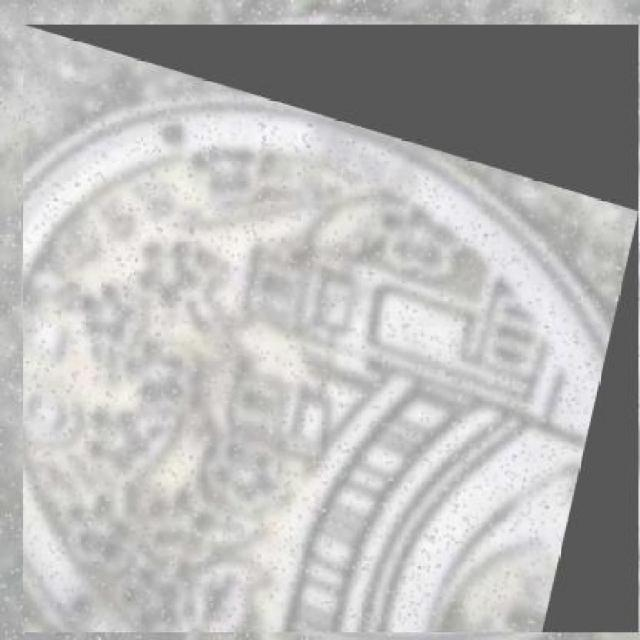Manhole: (23, 25, 640, 632)
